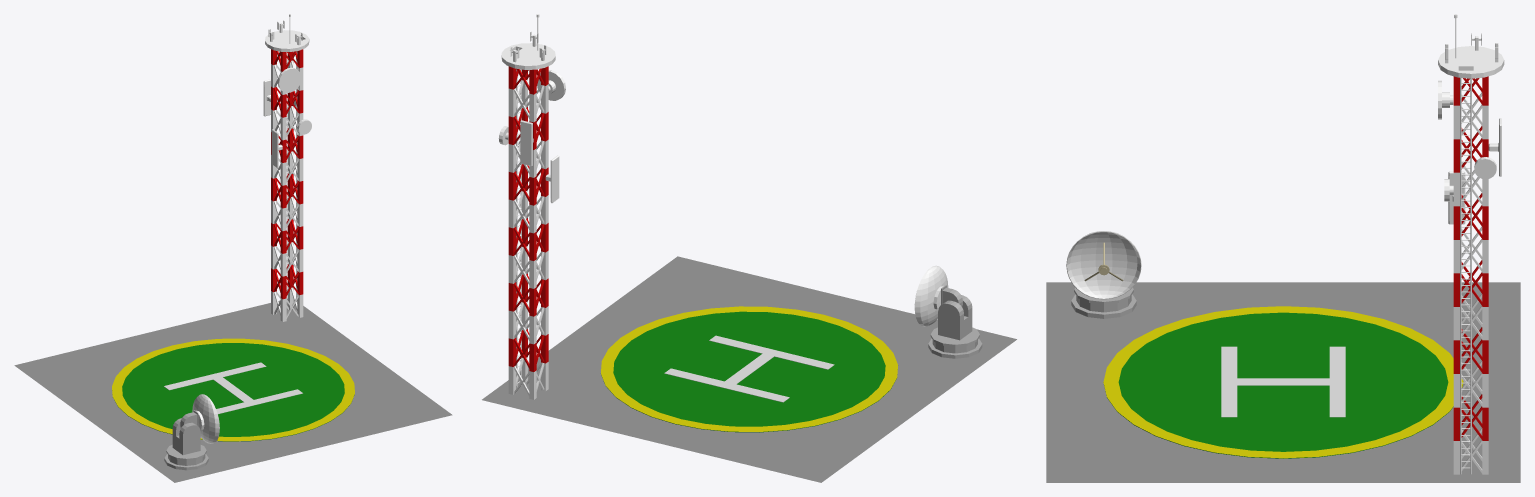
Rendered from activacionPEM.fbx.
The picture shows the model from 3 angles, left to right: view 1: azimuth 30°, elevation 25°; view 2: azimuth 150°, elevation 25°; view 3: azimuth 270°, elevation 25°; orthographic projection. The views are drawn at different scales.
Parts seen in each view (by area): view 1: suelo, antenas, radar; view 2: suelo, antenas, radar; view 3: suelo, antenas, radar.
Boxes of the visible parts, <box> form: suelo: <box>14,298,452,482</box>; antenas: <box>263,14,311,321</box>; radar: <box>164,394,219,470</box>; suelo: <box>482,256,1016,482</box>; antenas: <box>498,14,565,399</box>; radar: <box>914,265,982,358</box>; suelo: <box>1046,282,1520,482</box>; antenas: <box>1438,14,1504,474</box>; radar: <box>1066,231,1141,318</box>.
Bounding box in the file's own units: 2153 × 2257 × 2153.
